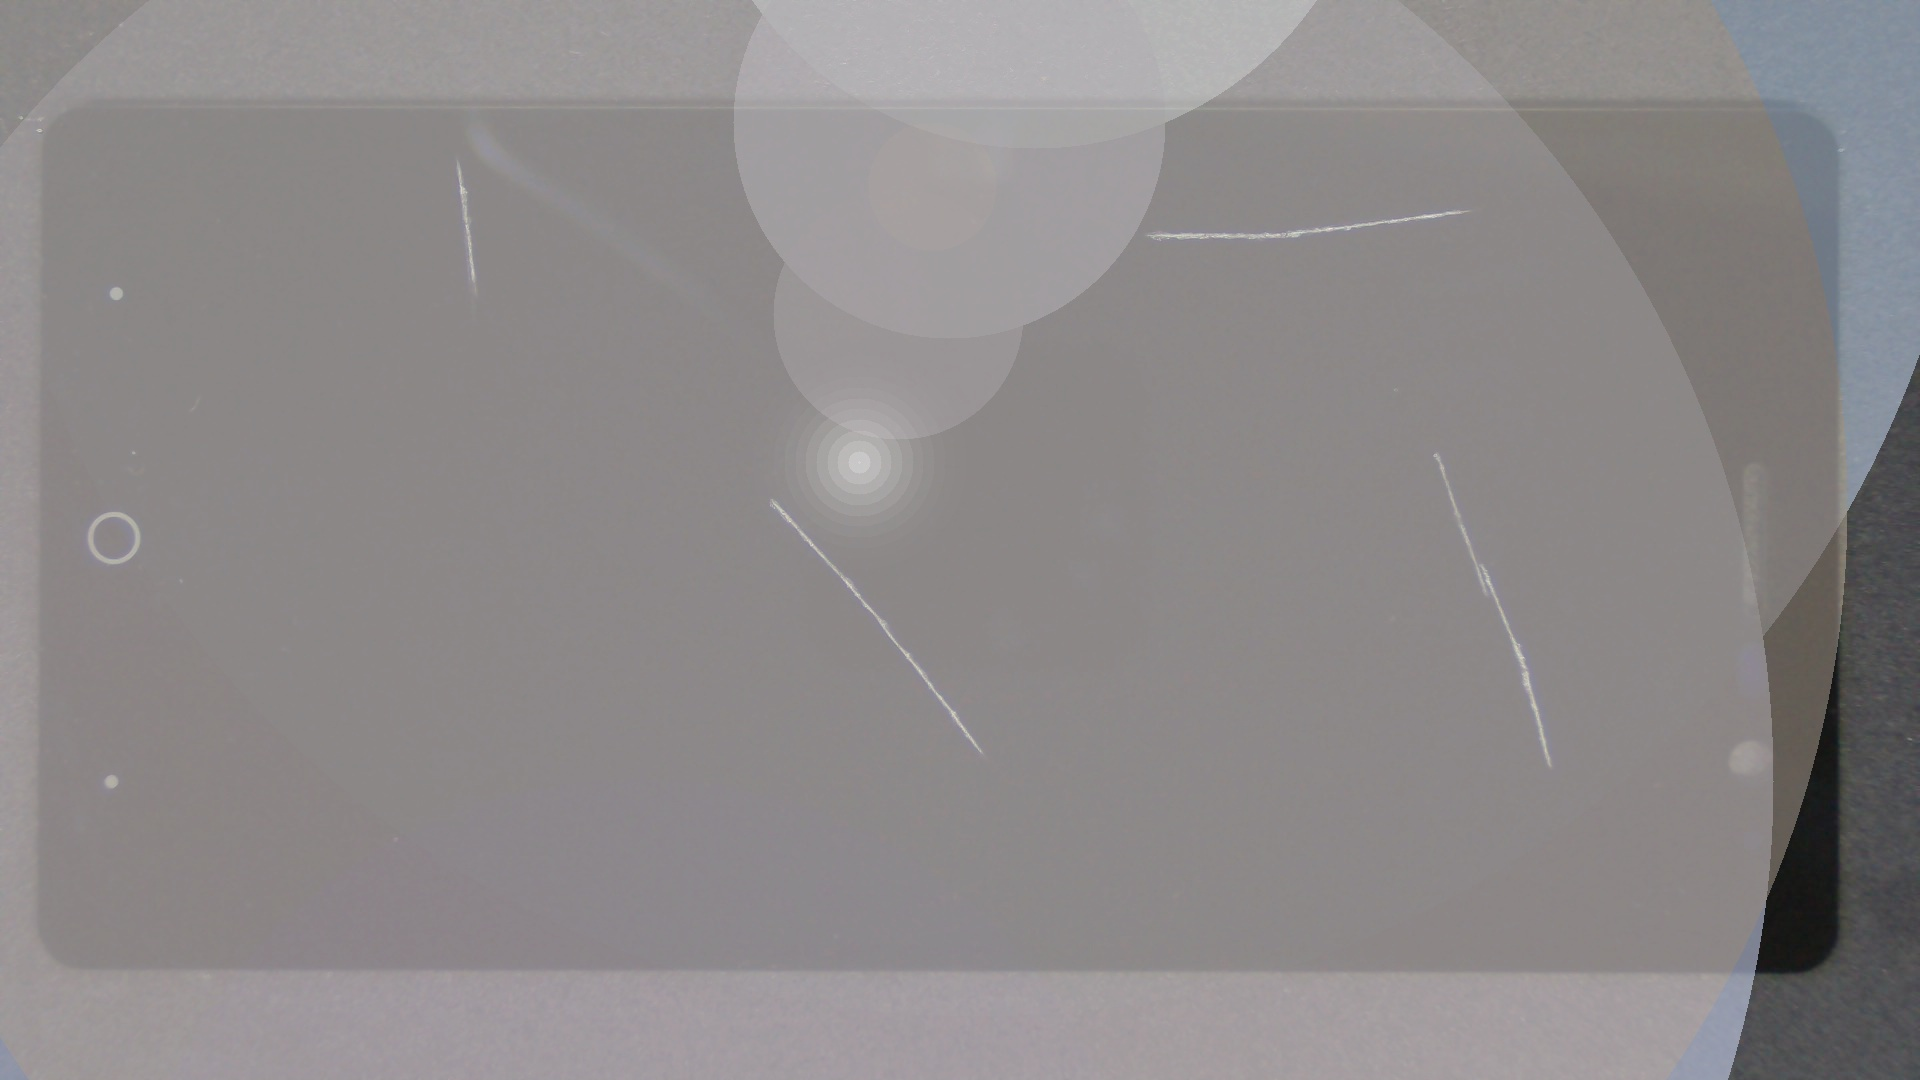oil: (719, 224, 1920, 678), (386, 248, 1159, 746), (729, 104, 1920, 314), (228, 78, 686, 236)
